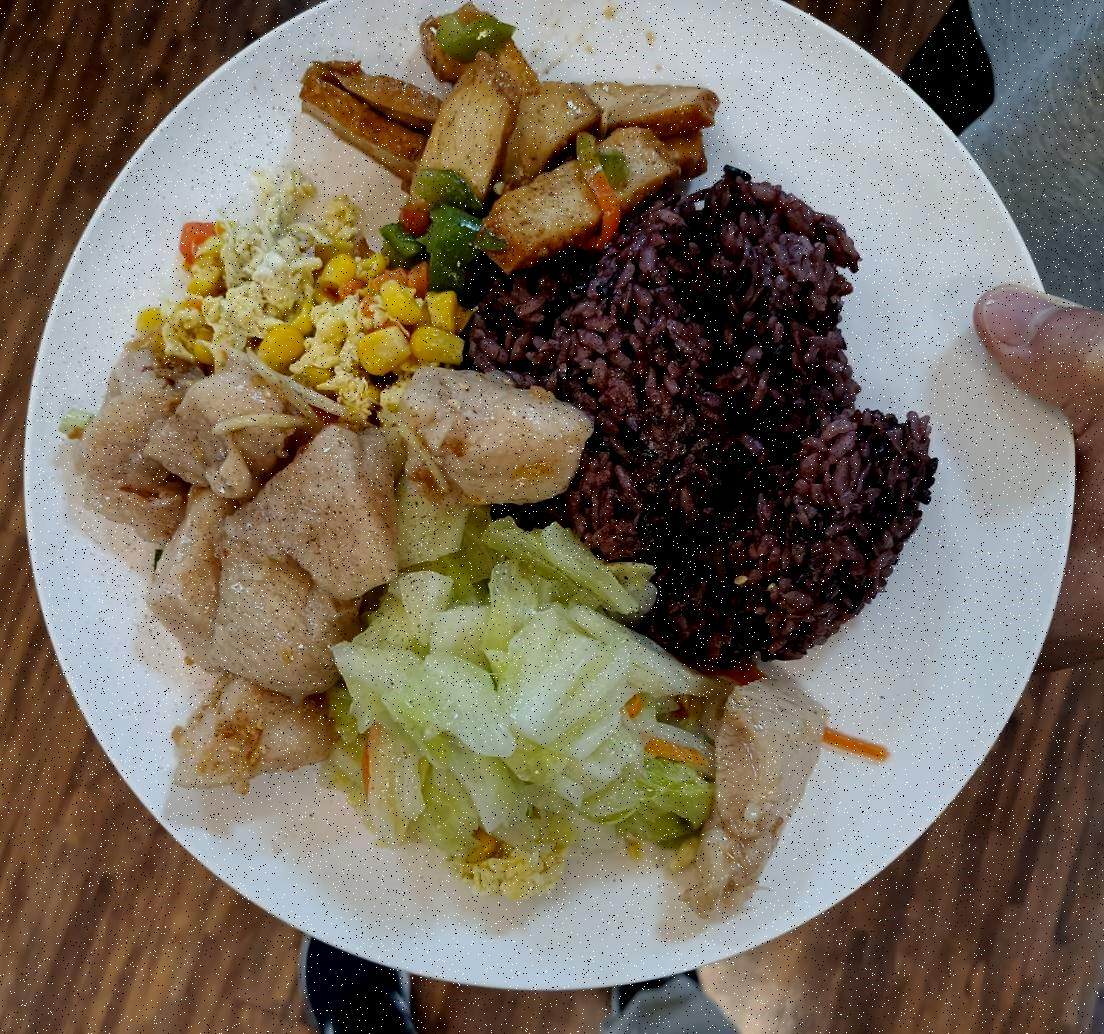big fried chicken leg: (23, 8, 1090, 972)
braised fish: (454, 171, 928, 676)
braised fish fillet: (322, 510, 696, 890), (278, 31, 733, 258), (156, 178, 474, 406)
braised pork: (93, 350, 580, 744)
